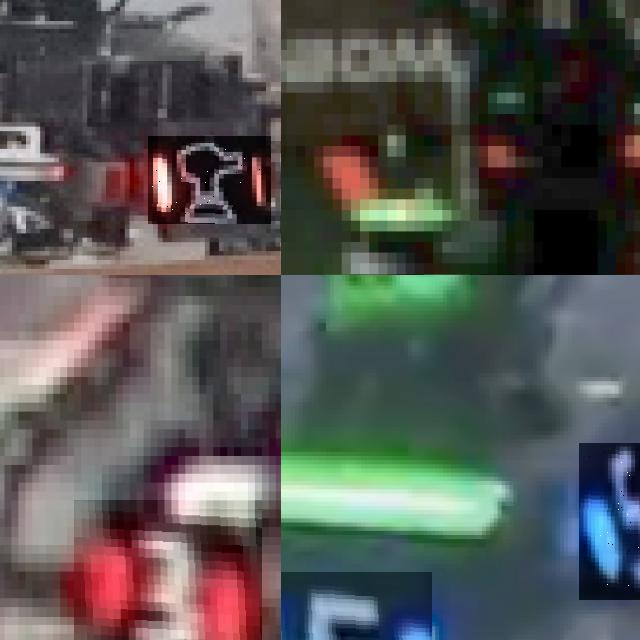B5: (281, 572, 431, 640), (579, 443, 640, 601)
R3: (74, 500, 262, 640)
Rs: (148, 136, 271, 224)
